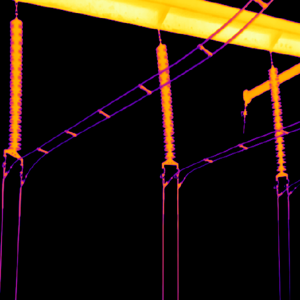insulator: (155, 41, 180, 170), (268, 63, 286, 176), (10, 18, 21, 153)
